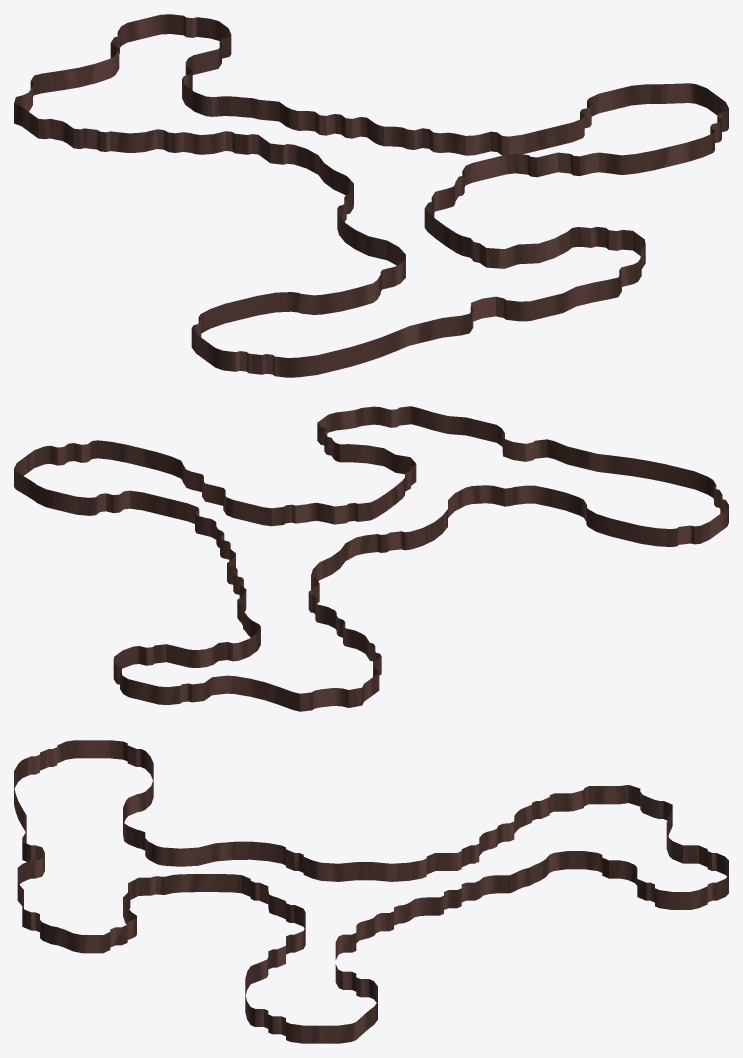
Rendered from WaterEdgeMesh.obj.
3 renders of one model, top to bottom at view 1: azimuth 30°, elevation 25°; view 2: azimuth 150°, elevation 25°; view 3: azimuth 270°, elevation 25°, orthographic. The views are drawn at different scales.
Visible parts, largest first — view 1: polySurface251 polySurface64 pCube44; view 2: polySurface251 polySurface64 pCube44; view 3: polySurface251 polySurface64 pCube44.
Part boxes in pixels (left/top/right/bottom): polySurface251 polySurface64 pCube44: left=14, top=14, right=728, bottom=377; polySurface251 polySurface64 pCube44: left=14, top=406, right=728, bottom=711; polySurface251 polySurface64 pCube44: left=14, top=740, right=728, bottom=1043.
Size of the model in its own units: 231 by 6.85 by 244.
